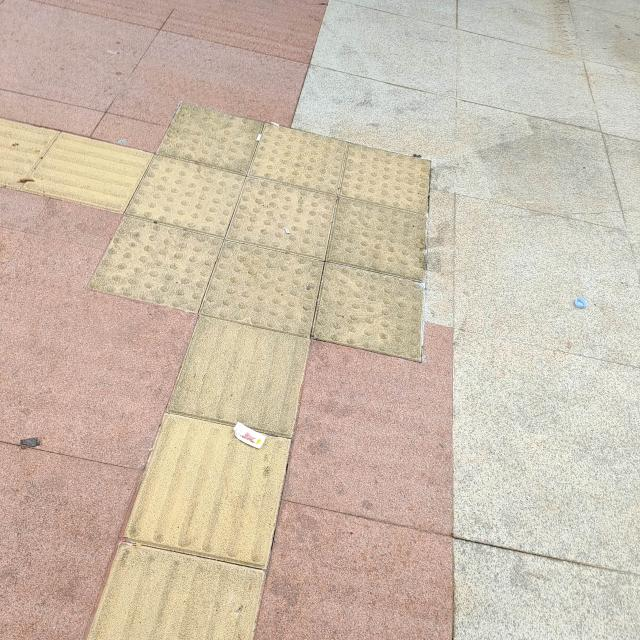kiri: (6, 84, 396, 448)
